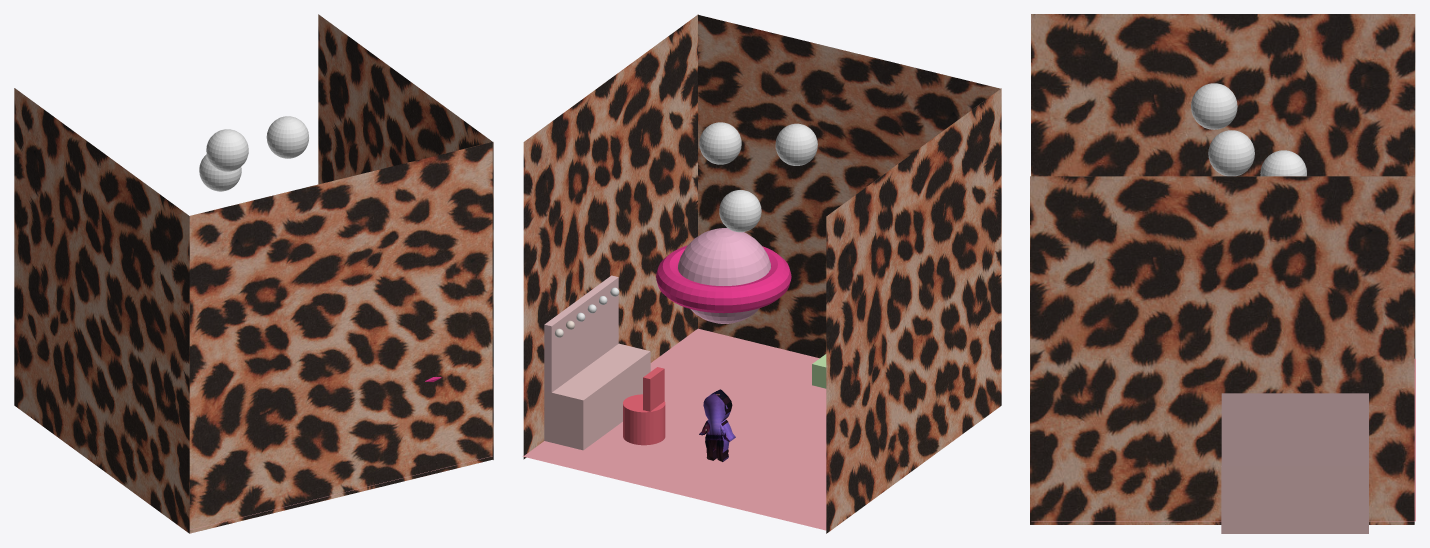
File: Wrap Sonny.glb
3 views of the same model, side by side, from view 1: azimuth 30°, elevation 25°; view 2: azimuth 150°, elevation 25°; view 3: azimuth 270°, elevation 25° (orthographic). The views are drawn at different scales.
Visible parts, largest first — view 1: Plane.002, Plane.004, Plane.003, Sphere.010, Sphere.002, Sphere.001; view 2: Plane.004, Plane.002, Plane.003, Plane.001, Cube.003, Cube.002, Sphere, Torus, Cylinder, Plane, Sphere.002, Sphere.001 (+2 smaller); view 3: Plane.003, Plane.004, Cube.002, Cube.003, Sphere.010, Sphere.002, Sphere.001, Plane.001.
Boxes of the visible parts, x1=… form: Plane.002: x1=189, y1=142, x2=492, y2=533; Plane.004: x1=14, y1=88, x2=189, y2=533; Plane.003: x1=318, y1=14, x2=493, y2=459; Sphere.010: x1=206, y1=129, x2=248, y2=171; Sphere.002: x1=266, y1=116, x2=308, y2=158; Sphere.001: x1=199, y1=154, x2=241, y2=191; Plane.004: x1=826, y1=88, x2=1001, y2=533; Plane.002: x1=698, y1=15, x2=1000, y2=358; Plane.003: x1=523, y1=14, x2=698, y2=459; Plane.001: x1=522, y1=328, x2=826, y2=530; Cube.003: x1=544, y1=343, x2=650, y2=450; Cube.002: x1=544, y1=275, x2=618, y2=392; Sphere: x1=678, y1=228, x2=770, y2=323; Torus: x1=656, y1=245, x2=791, y2=313; Cylinder: x1=623, y1=394, x2=665, y2=445; Plane: x1=699, y1=389, x2=735, y2=461; Sphere.002: x1=699, y1=122, x2=741, y2=164; Sphere.001: x1=719, y1=190, x2=761, y2=232; Plane.003: x1=1030, y1=176, x2=1414, y2=524; Plane.004: x1=1031, y1=14, x2=1415, y2=358; Cube.002: x1=1221, y1=393, x2=1368, y2=466; Cube.003: x1=1221, y1=466, x2=1368, y2=533; Sphere.010: x1=1191, y1=83, x2=1237, y2=129; Sphere.002: x1=1208, y1=130, x2=1254, y2=176; Sphere.001: x1=1260, y1=150, x2=1306, y2=176; Plane.001: x1=1031, y1=358, x2=1415, y2=521.
Bounding box in the file's own units: 16.48 × 16.88 × 16.52.
Materials: 22 (4 with a texture image).
